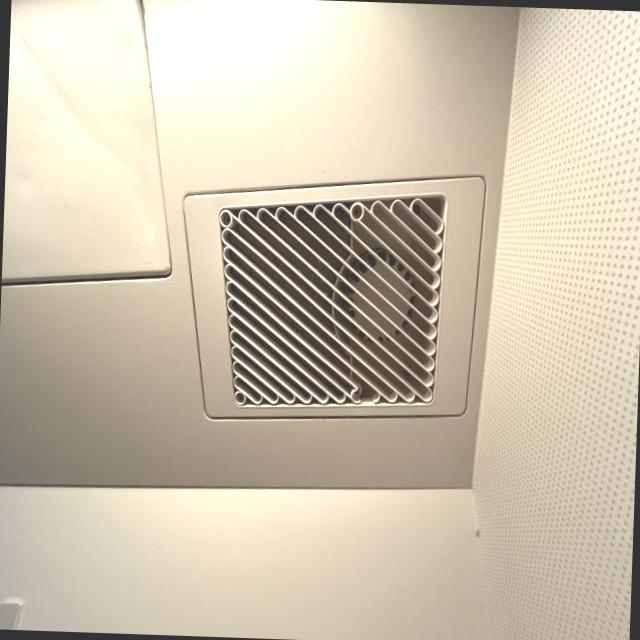dent: (5, 22, 150, 185), (106, 24, 145, 72), (4, 162, 43, 199)
